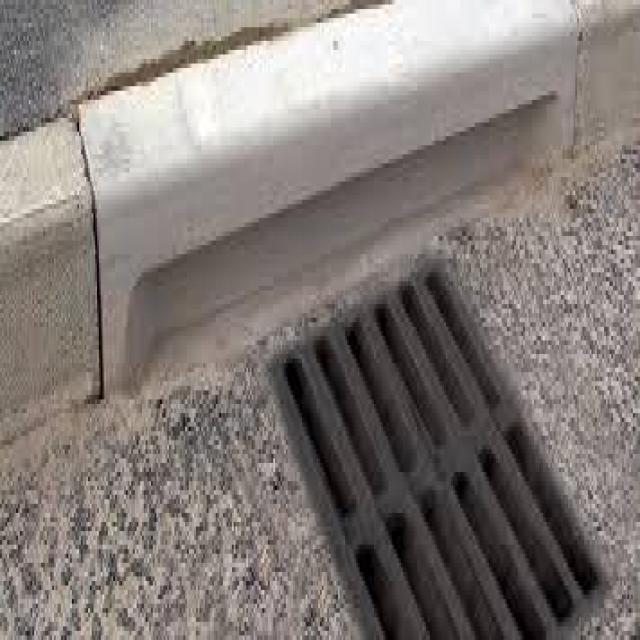curb: (1, 1, 312, 447), (306, 5, 640, 237)
